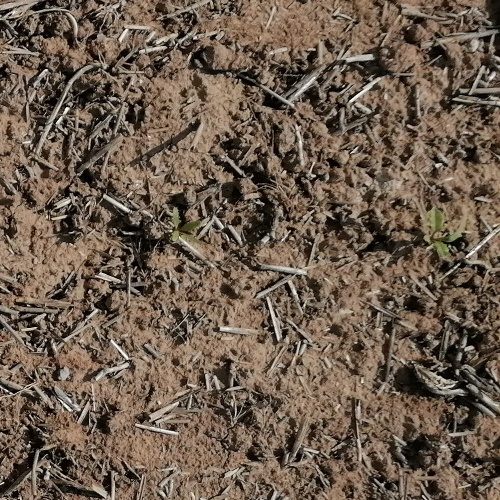beet: (428, 207, 463, 265), (167, 208, 203, 245)
